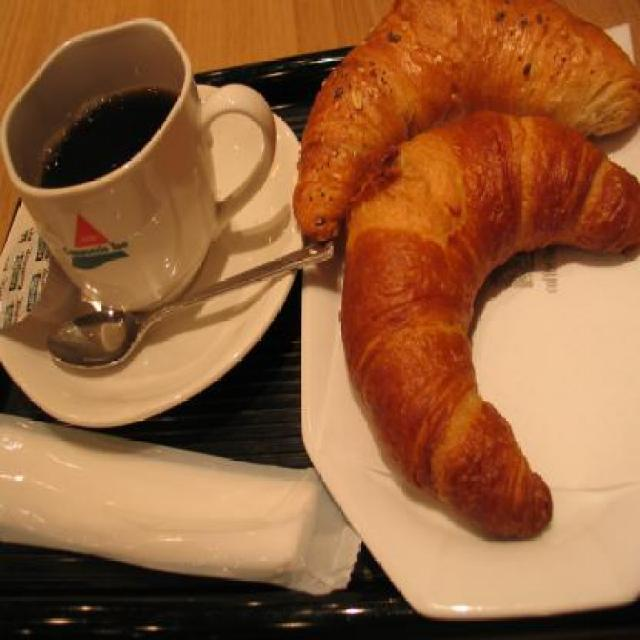Croissant: (338, 106, 639, 543), (293, 0, 639, 243), (293, 1, 639, 242)
